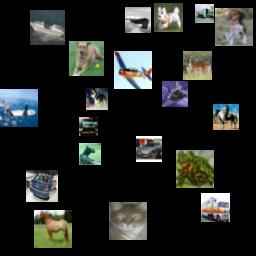airplane: (114, 51, 152, 89), (0, 89, 38, 127), (125, 7, 151, 33), (162, 81, 188, 107)
automobile: (26, 170, 58, 202), (136, 136, 162, 162), (79, 117, 98, 136)
cat: (109, 202, 147, 240)
deer: (183, 51, 212, 80), (79, 143, 101, 165)
dog: (215, 8, 253, 46), (69, 41, 104, 76), (154, 3, 183, 32), (86, 88, 108, 110)
frog: (176, 150, 214, 188)
ship: (30, 10, 65, 45)
truck: (201, 193, 230, 222), (195, 4, 214, 23)
